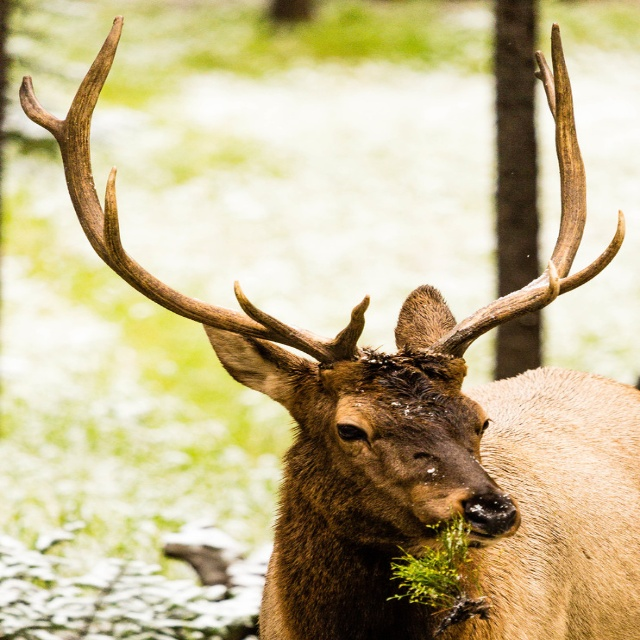Deer: (18, 16, 640, 640)
